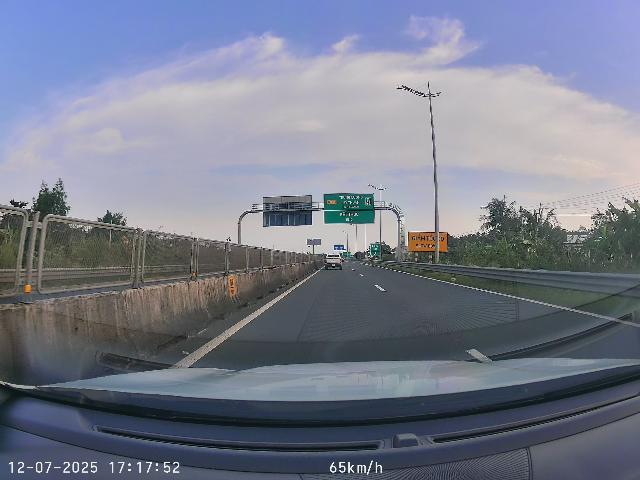438-ket-thuc-duong-cao-toc: (365, 197, 372, 206)
